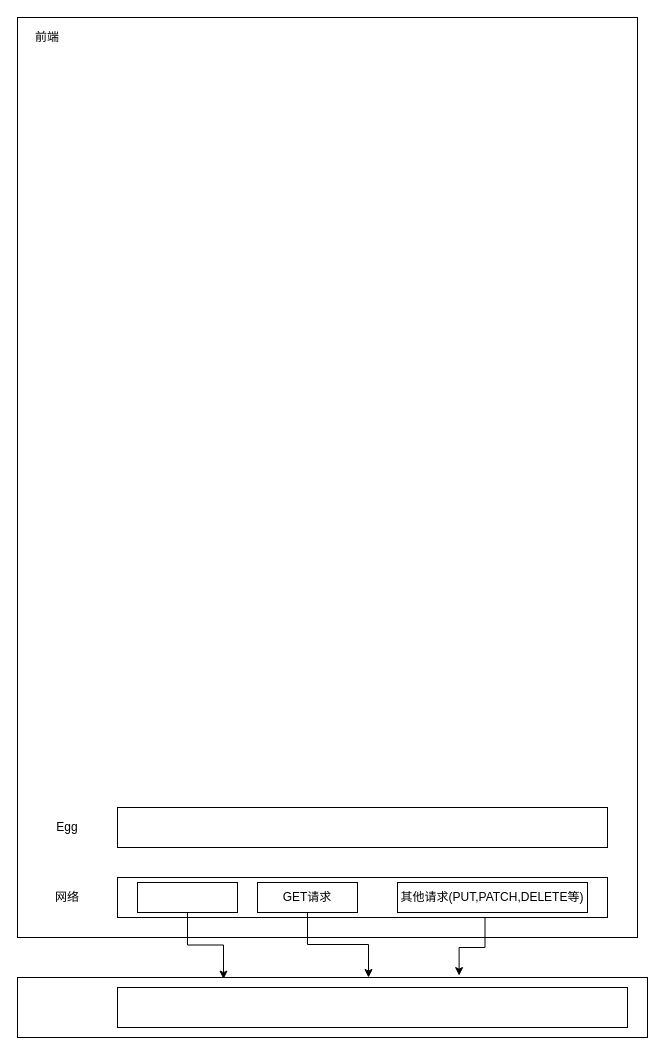
Image size: 665x1055. Some labels were removed from this diagram. The shapes that lost their labels are listed below. From the top down, each one's centre as x and y in pixels, then its label:
[187,897]: POST请求
[372,1007]: 后端接口
